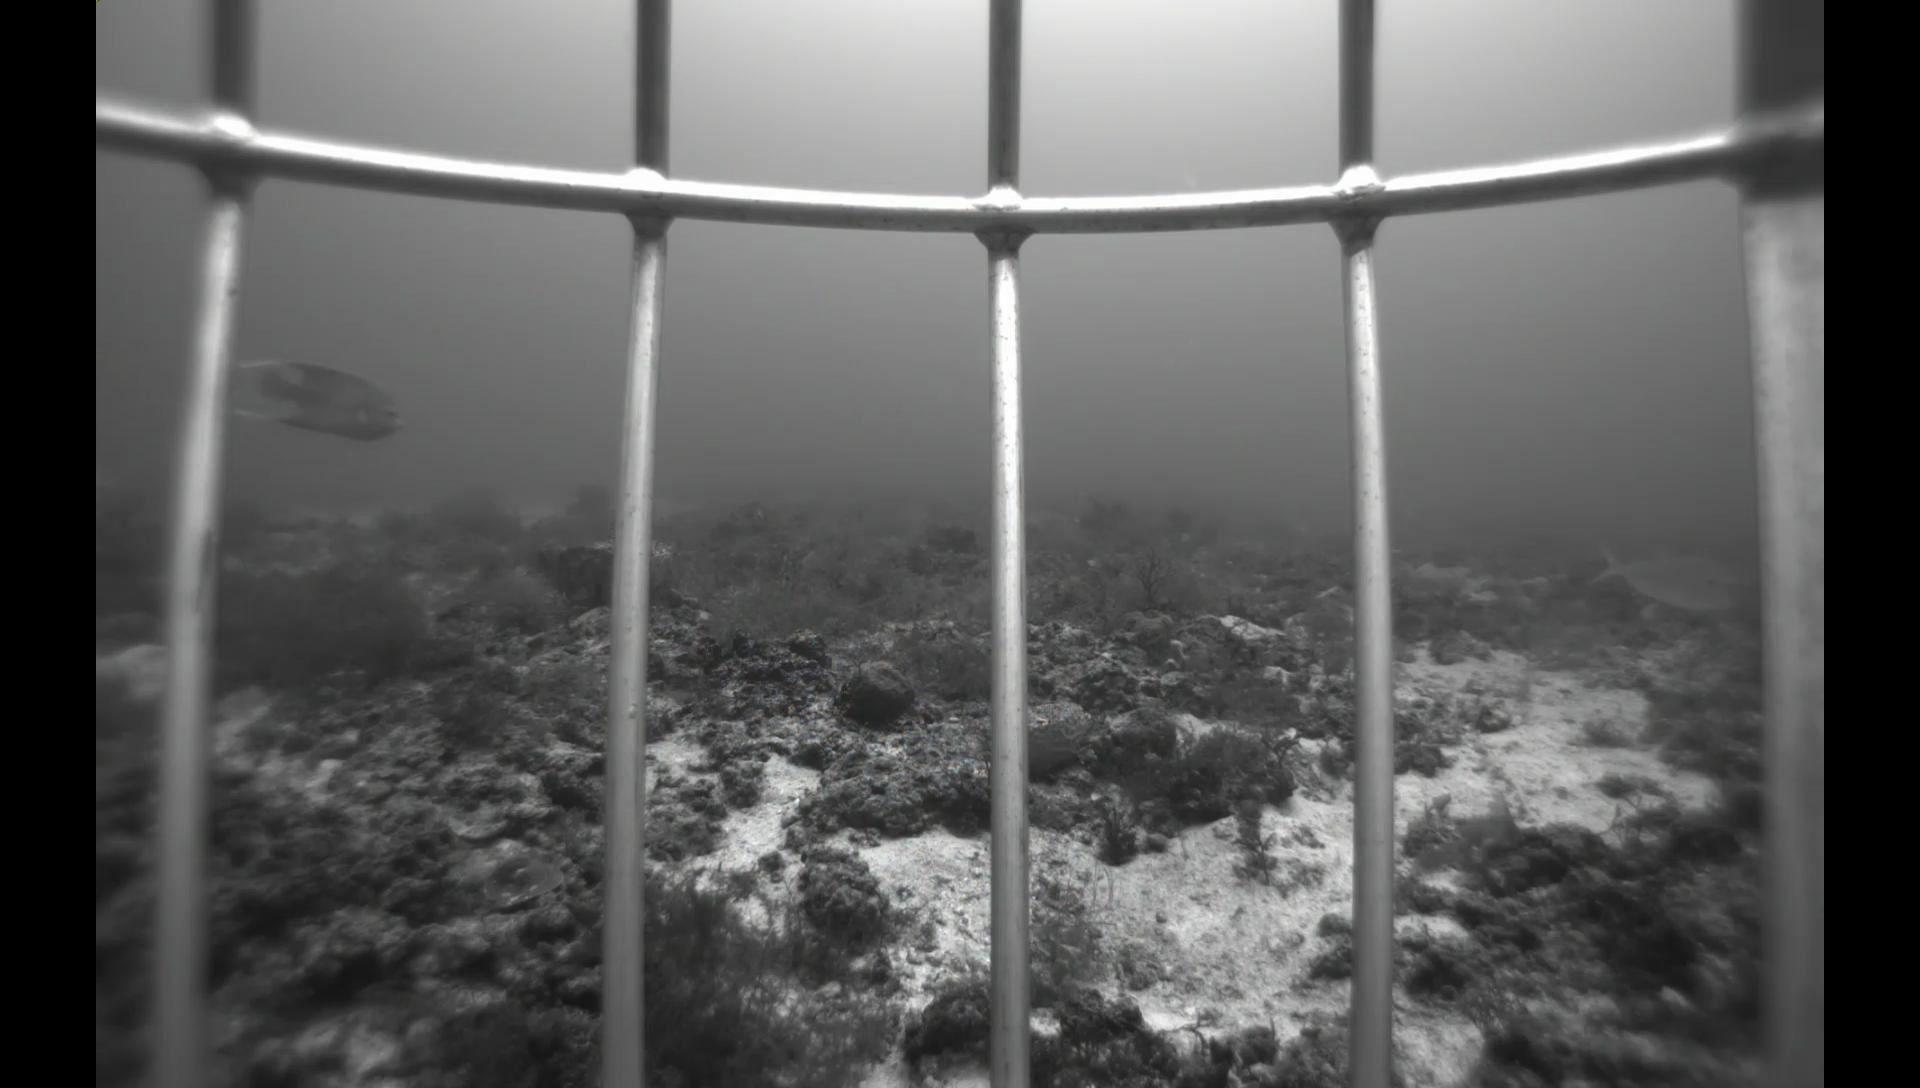CALAMUSNODOSUS-170210608: (1585, 531, 1754, 622)
HOLACANTHUSBERMUDENSIS-170290102: (229, 348, 415, 451)
SERRANUSANNULARIS-170024201: (342, 972, 459, 1030)
